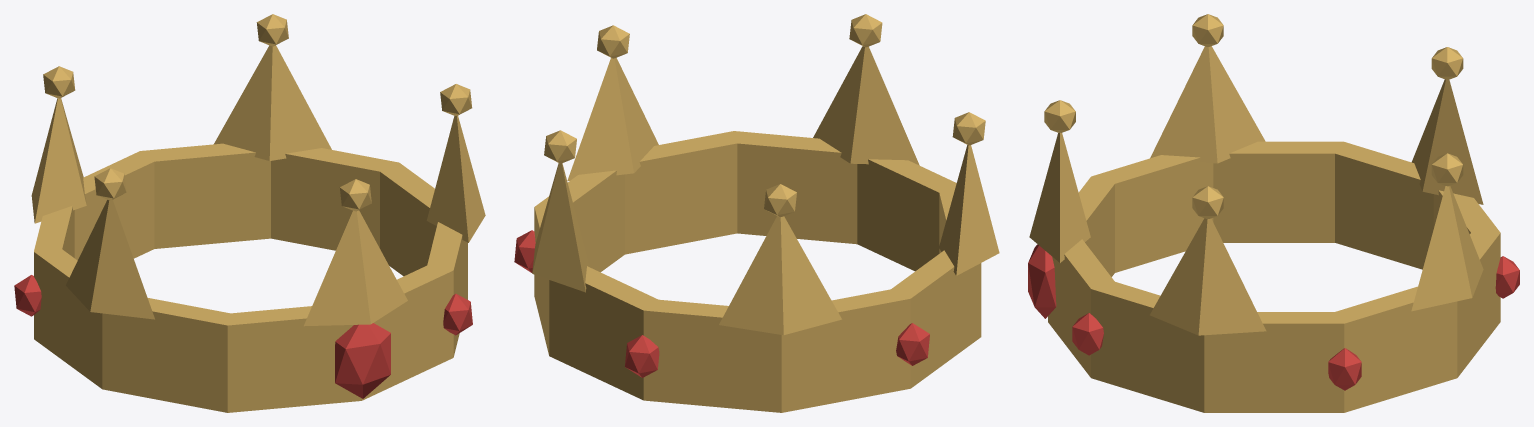
File: Hat_Crown.fbx
3 renders of one model, left to right at view 1: azimuth 30°, elevation 25°; view 2: azimuth 150°, elevation 25°; view 3: azimuth 270°, elevation 25°, orthographic. The views are drawn at different scales.
Parts seen in each view (by area): view 1: Crown, CrownGems; view 2: Crown, CrownGems; view 3: Crown, CrownGems.
Boxes of the visible parts, x1,y1,x2,y2 form: Crown: (31, 14, 485, 412); CrownGems: (14, 275, 472, 398); Crown: (532, 14, 999, 412); CrownGems: (514, 230, 929, 377); Crown: (1029, 14, 1500, 412); CrownGems: (1028, 244, 1519, 390).
Size of the model in its own units: 1.91 by 0.995 by 2.
